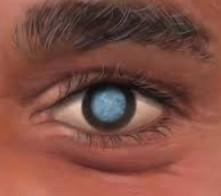eye: (81, 83, 137, 132)
